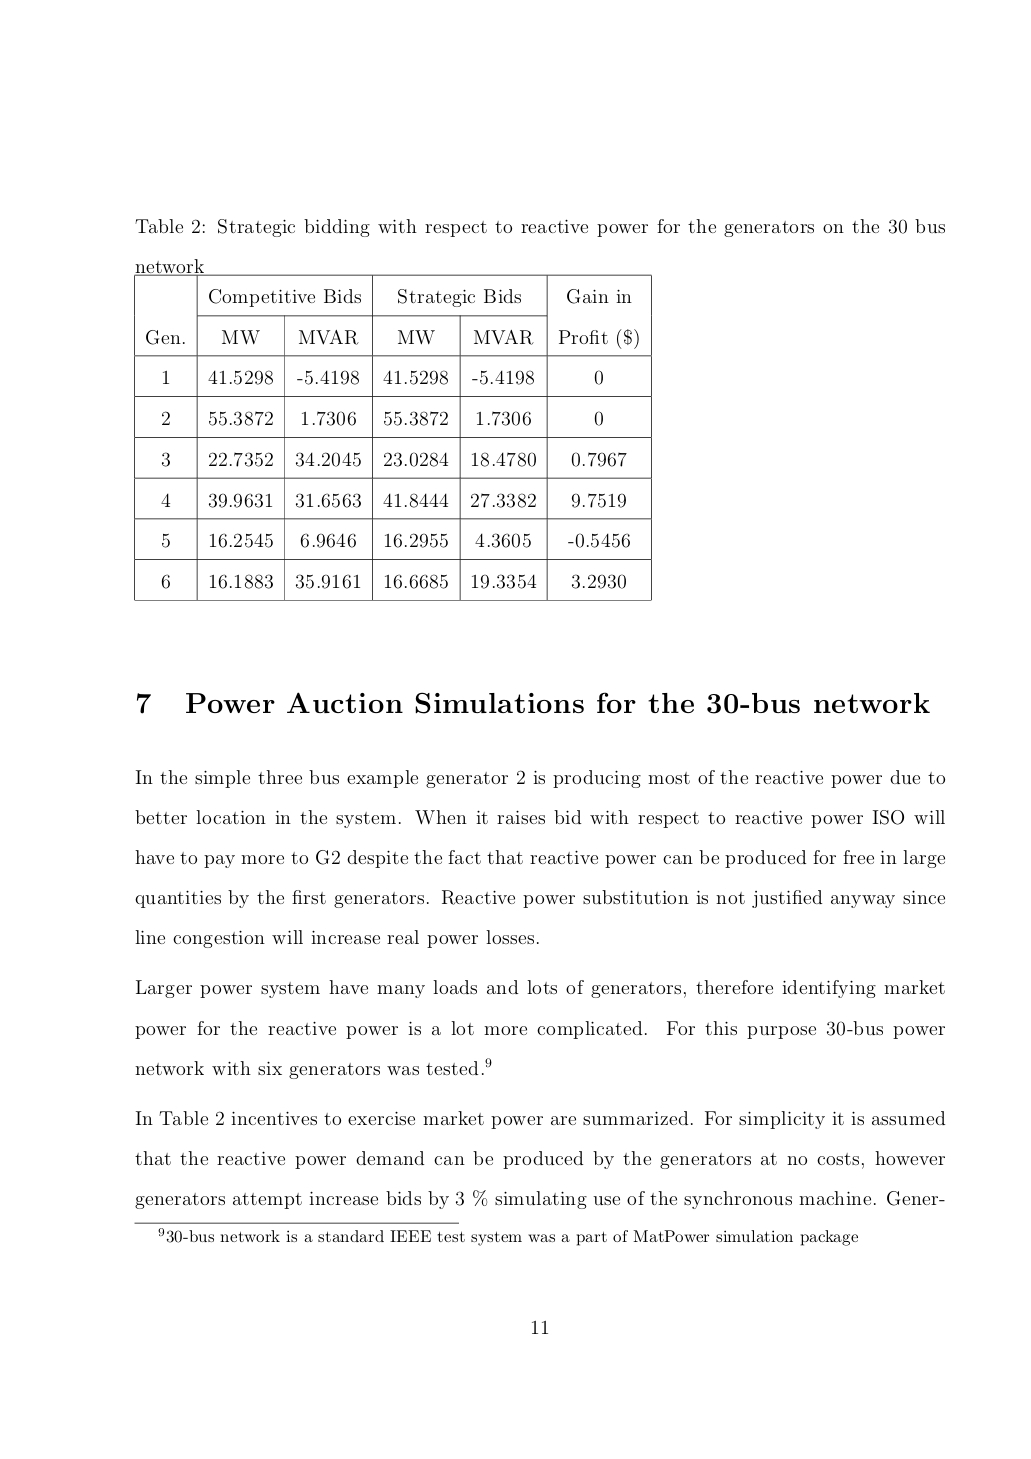Table: (134, 274, 651, 600)
